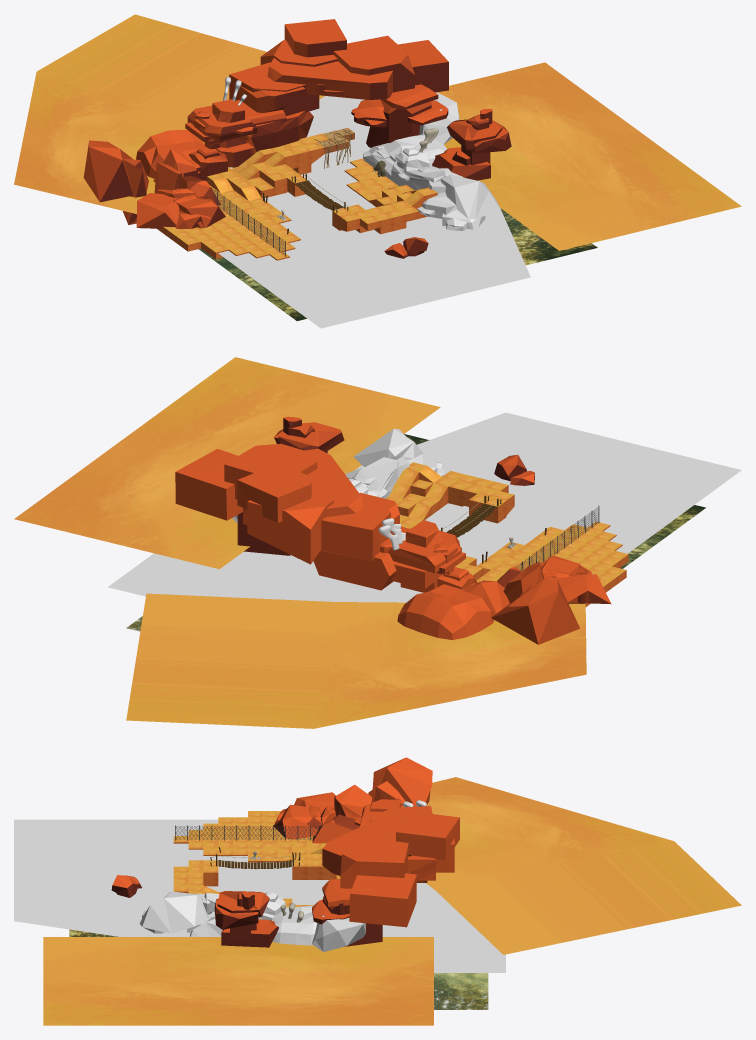
File: WLD-001.fbx
3 renders of one model, top to bottom at view 1: azimuth 30°, elevation 25°; view 2: azimuth 150°, elevation 25°; view 3: azimuth 270°, elevation 25°, orthographic. The views are drawn at different scales.
Parts seen in each view (by area): view 1: 立方体.120, 平面.002, 立方体.001, BigRock.003, BigRock.002, BigRock, BigRock.004, BigRock.005, 平面.003, MetalFence, BigRock.001, Bridge; view 2: 立方体.001, 平面.002, 立方体.120, BigRock.003, BigRock.002, BigRock, BigRock.004, MetalFence, 平面.003, BigRock.001, BigRock.005, Bridge; view 3: 立方体.120, 立方体.001, 平面.002, BigRock.003, BigRock.002, BigRock, BigRock.004, 平面.004, MetalFence, BigRock.005, Bridge, 立方体.023 (+1 smaller).
Boxes of the visible parts, x1,y1,x2,y2 form: 立方体.120: (437, 62, 741, 250); 平面.002: (218, 96, 530, 328); 立方体.001: (14, 14, 324, 213); BigRock.003: (229, 19, 448, 152); BigRock.002: (83, 99, 257, 228); BigRock: (363, 92, 501, 230); BigRock.004: (432, 109, 511, 180); BigRock.005: (351, 99, 448, 147); 平面.003: (198, 208, 597, 320); MetalFence: (211, 187, 285, 256); BigRock.001: (384, 237, 428, 258); Bridge: (291, 173, 348, 213); 立方体.001: (126, 593, 586, 728); 平面.002: (108, 412, 741, 602); 立方体.120: (14, 357, 440, 569); BigRock.003: (175, 443, 409, 590); BigRock.002: (387, 520, 611, 644); BigRock: (232, 428, 444, 522); BigRock.004: (274, 416, 344, 453); MetalFence: (515, 506, 599, 570); 平面.003: (404, 434, 705, 603); BigRock.001: (494, 454, 534, 485); BigRock.005: (237, 512, 290, 555); Bridge: (440, 495, 501, 537); 立方体.120: (43, 937, 433, 1025); 立方体.001: (426, 777, 741, 954); 平面.002: (14, 819, 505, 972); BigRock.003: (322, 806, 459, 927); BigRock.002: (273, 757, 432, 843); BigRock: (139, 891, 365, 951); BigRock.004: (214, 891, 278, 947); 平面.004: (434, 973, 488, 1009); MetalFence: (175, 825, 322, 840); BigRock.005: (312, 895, 382, 946); Bridge: (210, 854, 299, 869); 立方体.023: (407, 855, 435, 880).
Bounding box in the file's own units: 4023 × 1050 × 4913.
